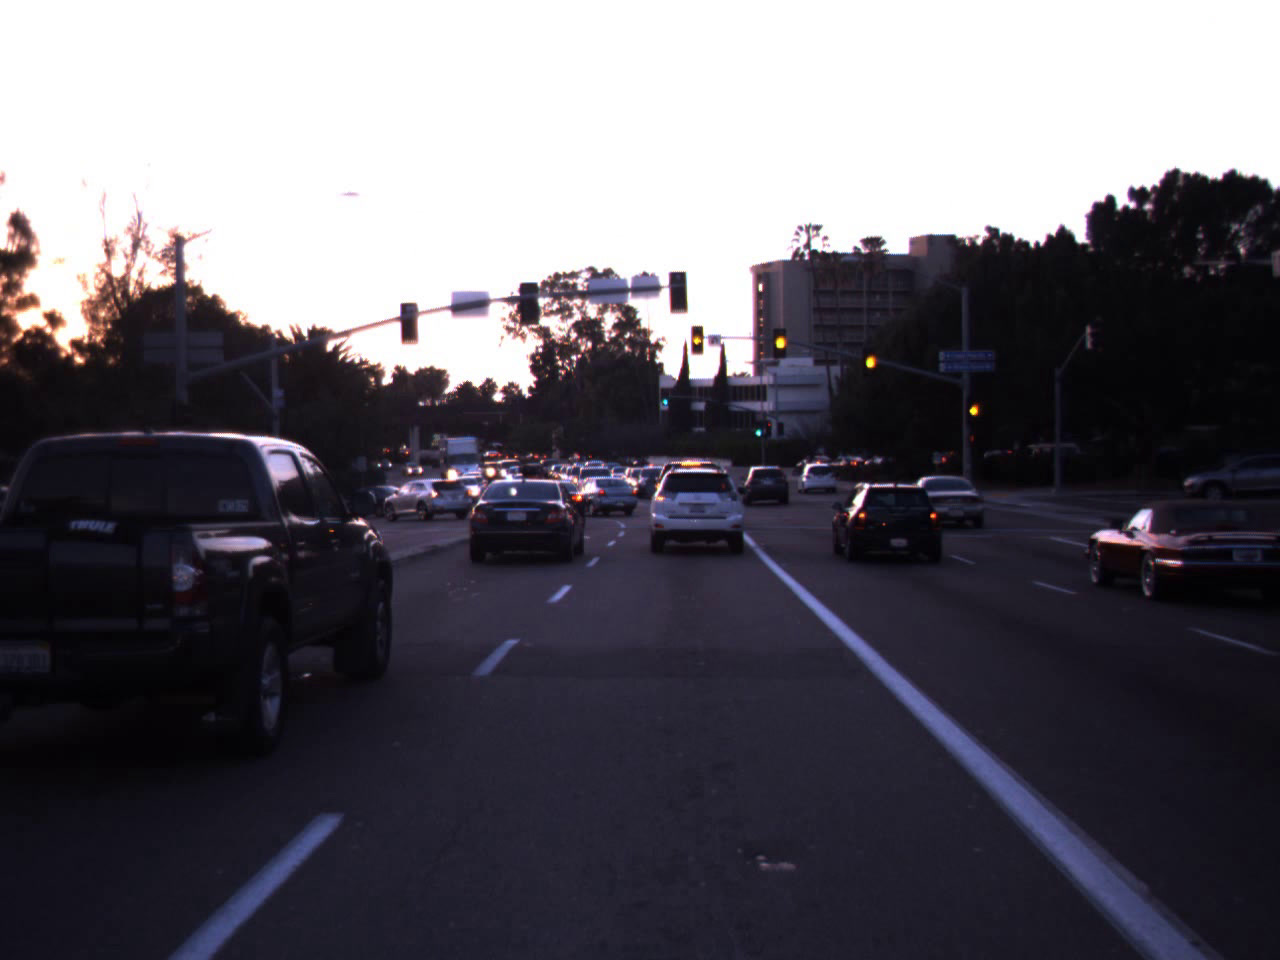go: (750, 409, 765, 439), (657, 382, 672, 407)
warning: (768, 318, 795, 363), (962, 388, 986, 428), (860, 342, 881, 378), (688, 326, 706, 353)
